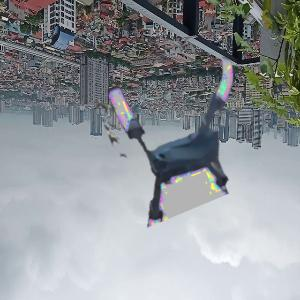drone: (112, 55, 264, 207)
